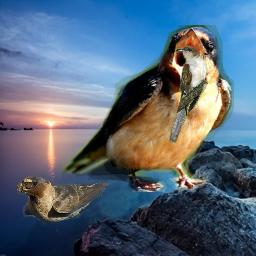Cuckoo: (169, 46, 208, 143)
Swallow: (61, 25, 234, 192), (17, 175, 109, 225)
